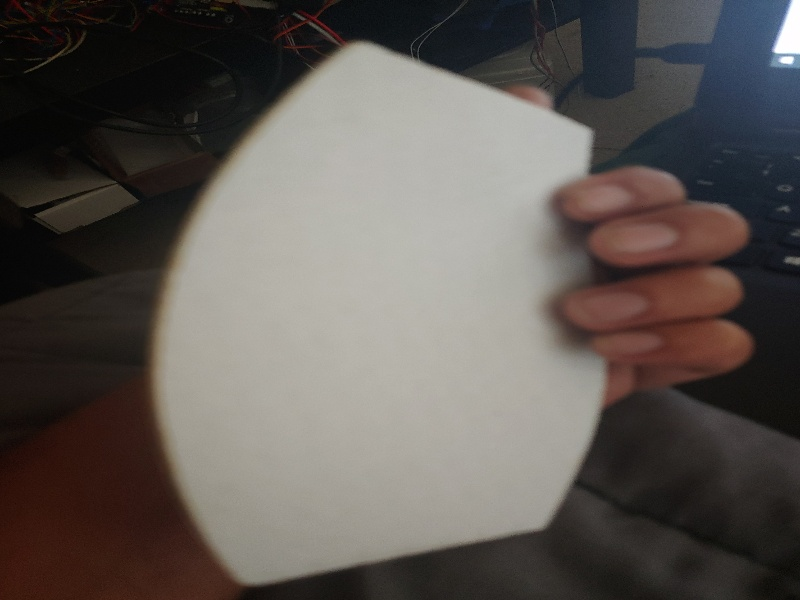Filter: (148, 36, 606, 586)
